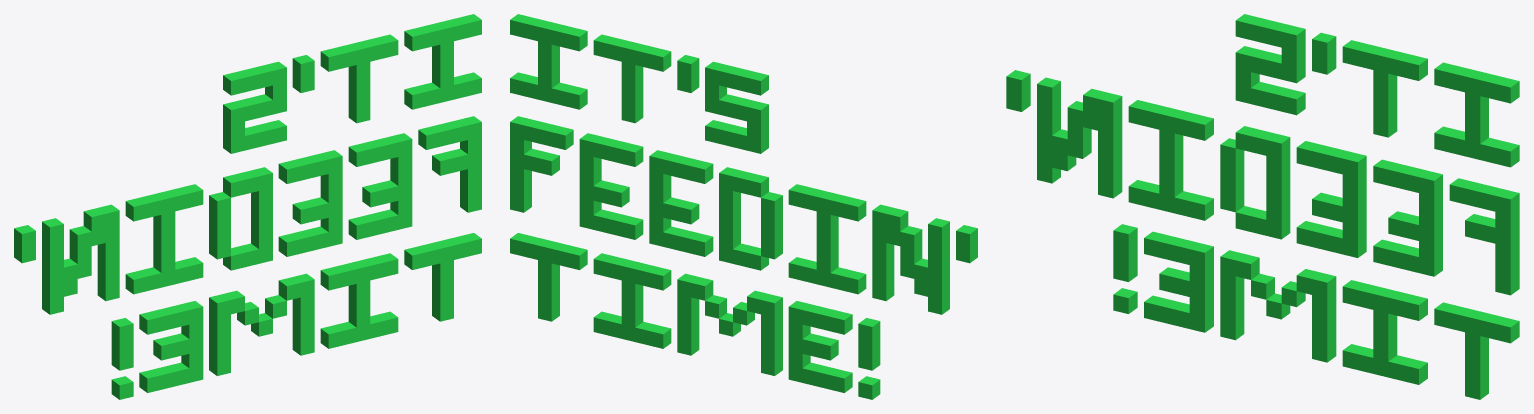
File: TitleText.dae
3 views of the same model, side by side, from view 1: azimuth 30°, elevation 25°; view 2: azimuth 150°, elevation 25°; view 3: azimuth 330°, elevation 25° (orthographic). The views are drawn at different scales.
Parts seen in each view (by area): view 1: Text; view 2: Text; view 3: Text.
Part boxes in pixels (left/top/right/bottom): Text: left=14, top=14, right=481, bottom=399; Text: left=510, top=14, right=977, bottom=399; Text: left=1006, top=14, right=1519, bottom=399.
Size of the model in its own units: 33 by 20 by 1.
1 material, 1 textured.
